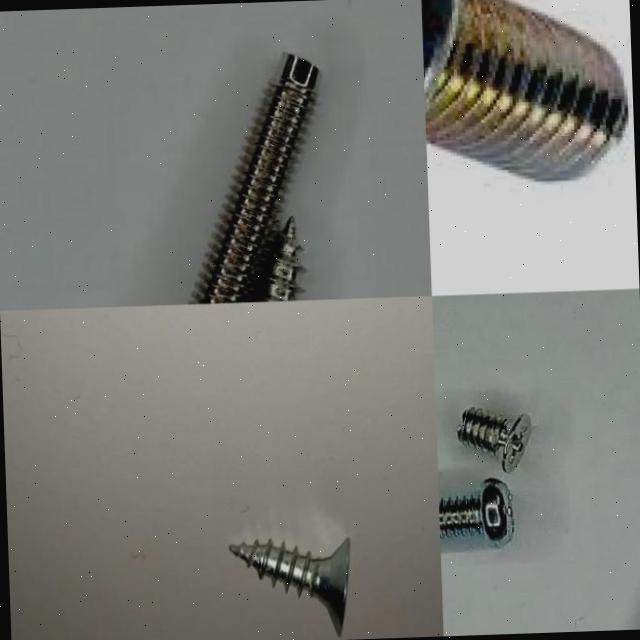Screw: (421, 0, 628, 181), (201, 55, 318, 304), (229, 539, 350, 638), (438, 478, 514, 552), (458, 406, 530, 470), (265, 217, 297, 301)
